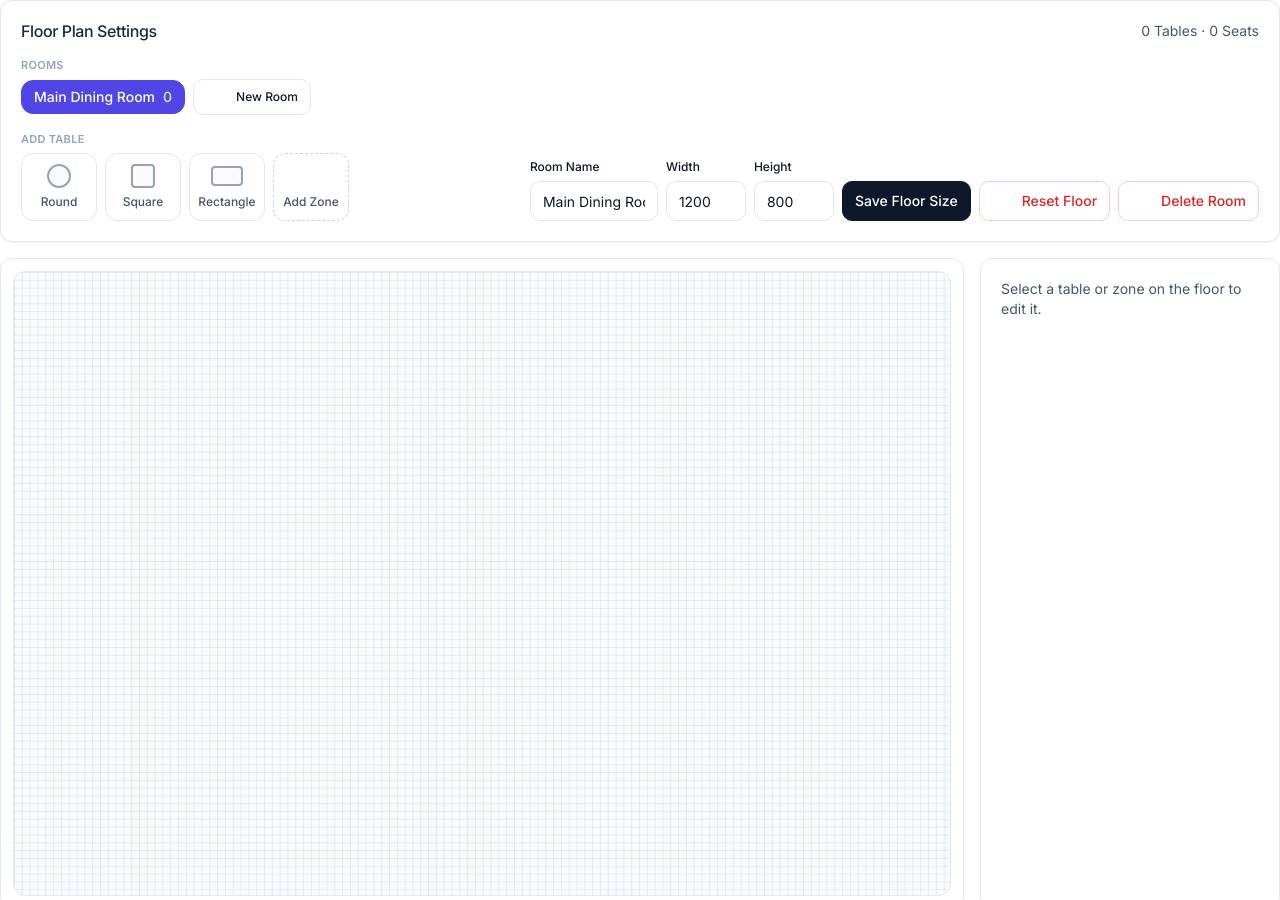
Test: rooms › creates a new room with a non clashing name
Click the button "New Room": click(252, 97) [193, 79, 311, 115]
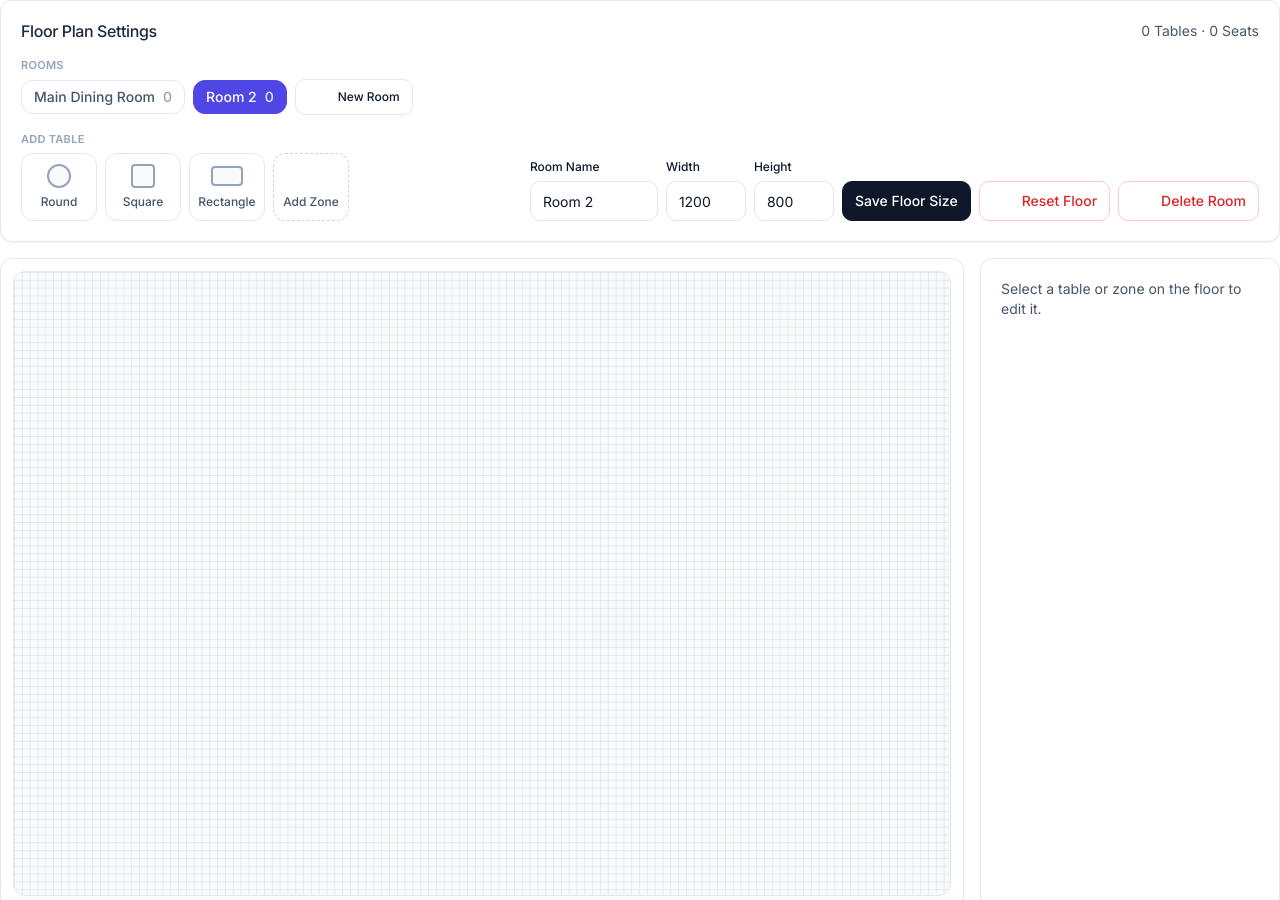
Now the text "Room 2" is shown, box [206, 87, 257, 107]
